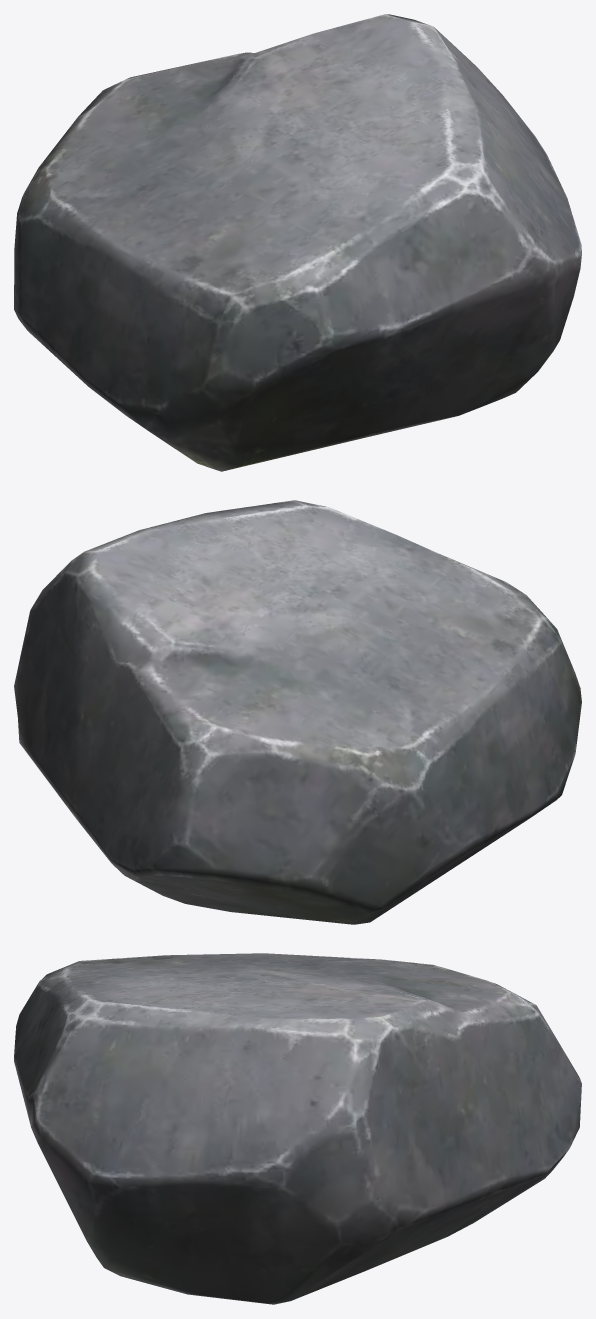
The picture shows the model from 3 angles, top to bottom: view 1: azimuth 30°, elevation 25°; view 2: azimuth 150°, elevation 25°; view 3: azimuth 270°, elevation 25°; orthographic projection. The views are drawn at different scales.
Visible parts, largest first — view 1: SM_Stone_01v1_LOD0; view 2: SM_Stone_01v1_LOD0; view 3: SM_Stone_01v1_LOD0.
Boxes of the visible parts, <box> form: SM_Stone_01v1_LOD0: <box>14,14,581,471</box>; SM_Stone_01v1_LOD0: <box>14,500,581,924</box>; SM_Stone_01v1_LOD0: <box>14,953,581,1304</box>.
Size of the model in its own units: 0.2511 by 0.1505 by 0.2706.
1 material, 1 textured.
